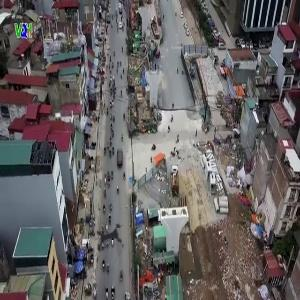drone: (74, 204, 147, 277)
